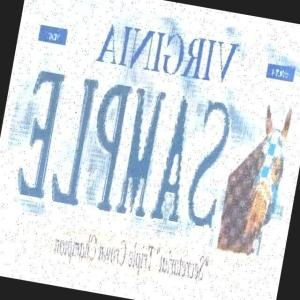Plate: (7, 47, 241, 243)
